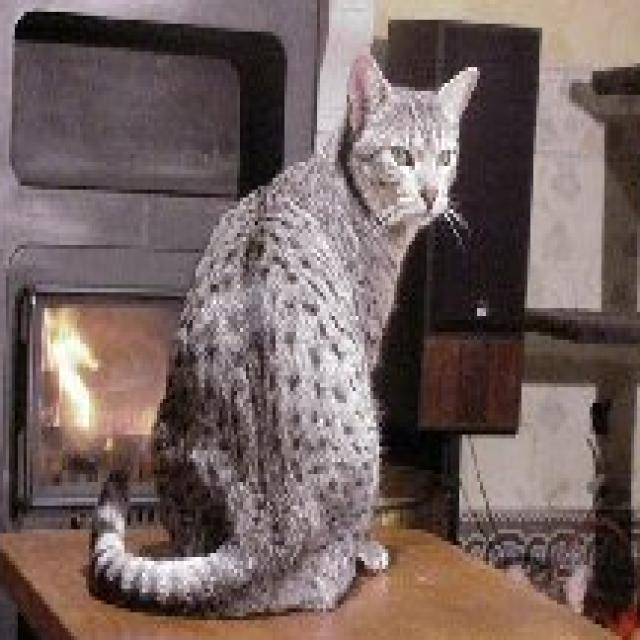Egyptian Mau: (85, 47, 484, 622)
